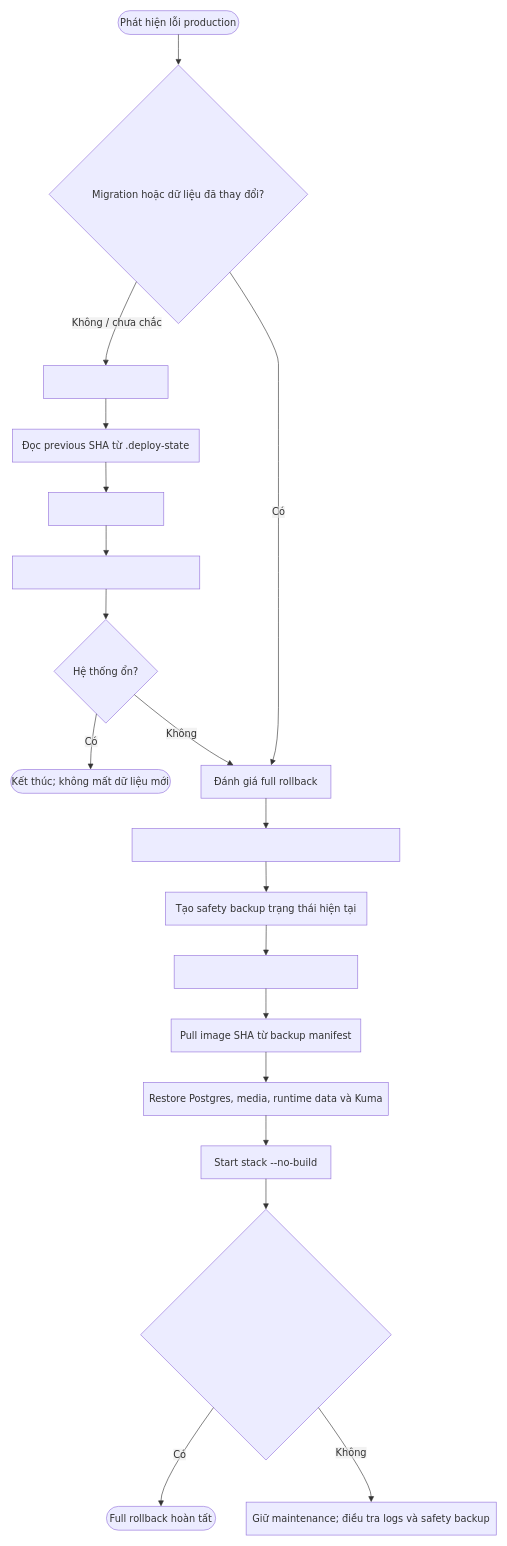
Some shapes in this 507 by 1546 pixel diagram are drawn without their labels. Here are the shapes that lost their labels. From the top down, the box of each, then its label:
(43, 365, 168, 399): Rollback image-only
(48, 492, 164, 526): Pull image từ ECR
(12, 555, 200, 589): Start app --no-build + healthcheck
(131, 828, 400, 862): Chọn pre-deploy backup và xác nhận RPO/downtime
(174, 955, 358, 989): Dừng Nginx, app và Uptime Kuma
(140, 1209, 391, 1460): Healthcheck + CMS validation đạt?
